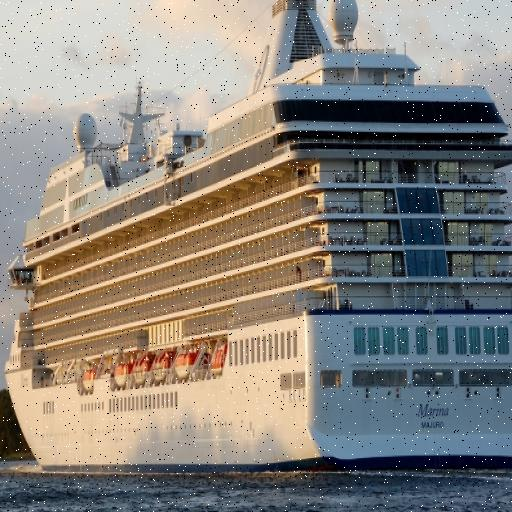cruises: (2, 1, 512, 479)
